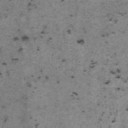oxide scale of temperature system: (0, 29, 128, 124), (100, 12, 124, 38), (26, 2, 32, 11), (3, 116, 8, 124), (34, 123, 40, 128), (61, 0, 64, 2)
